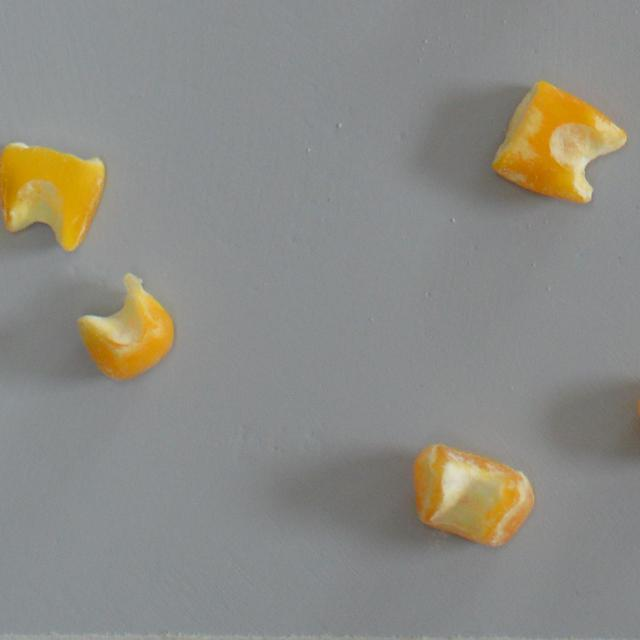dañado: (488, 74, 630, 209), (0, 136, 108, 254), (76, 269, 179, 384)
pelicula: (409, 436, 538, 554)
